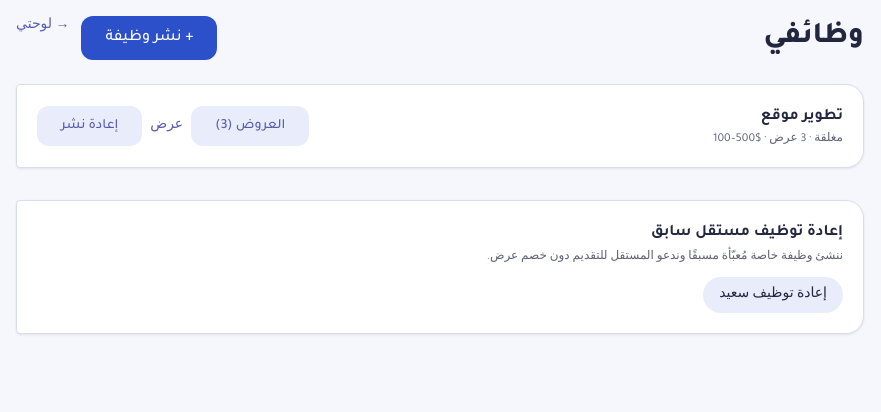
MyJobsPage › surfaces the Arabic error envelope on rehire failure
Click the button "إعادة توظيف سعيد".
click(773, 295)  # box x1=703 y1=277 x2=843 y2=313
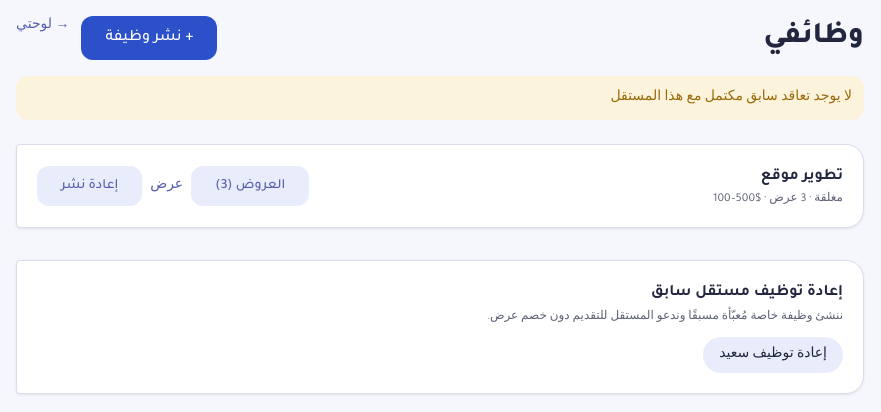
Now the text "لا يوجد تعاقد سابق مكتمل مع هذا المستقل" is shown, box x1=16 y1=76 x2=864 y2=120
